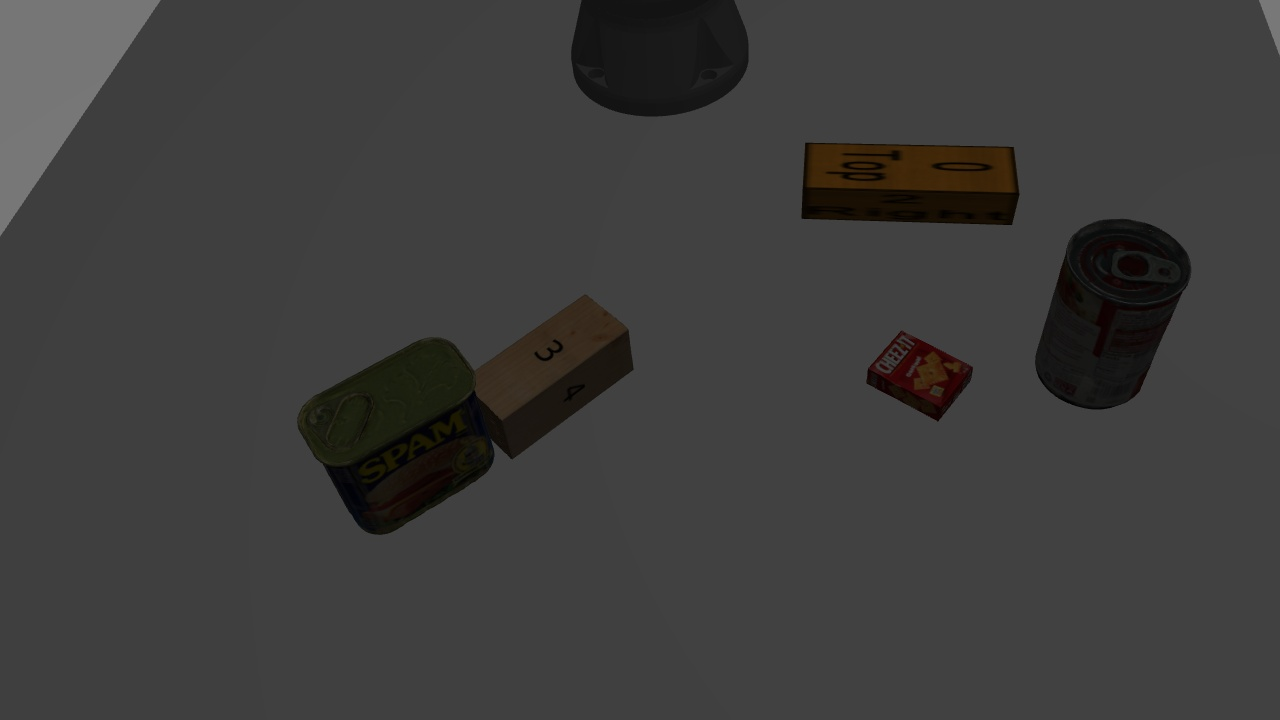cracker_box: (863, 330, 979, 419)
jenga: (799, 135, 1019, 238)
potted_meat_can: (291, 331, 500, 535)
tomato_soup_can: (1024, 197, 1193, 438)
wood_block: (462, 291, 648, 460)
